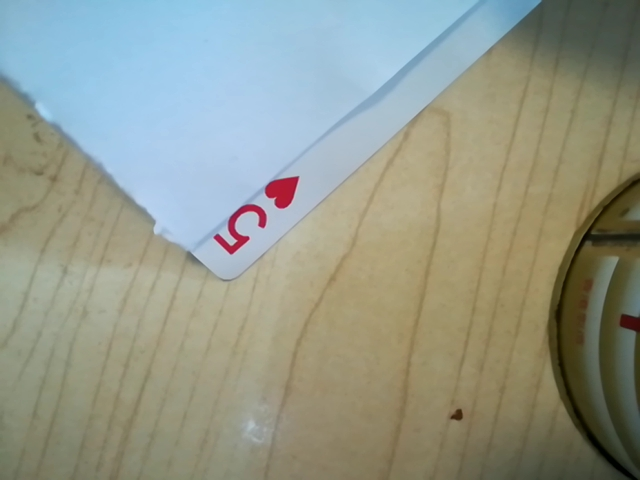hx 5: (205, 172, 306, 261)
